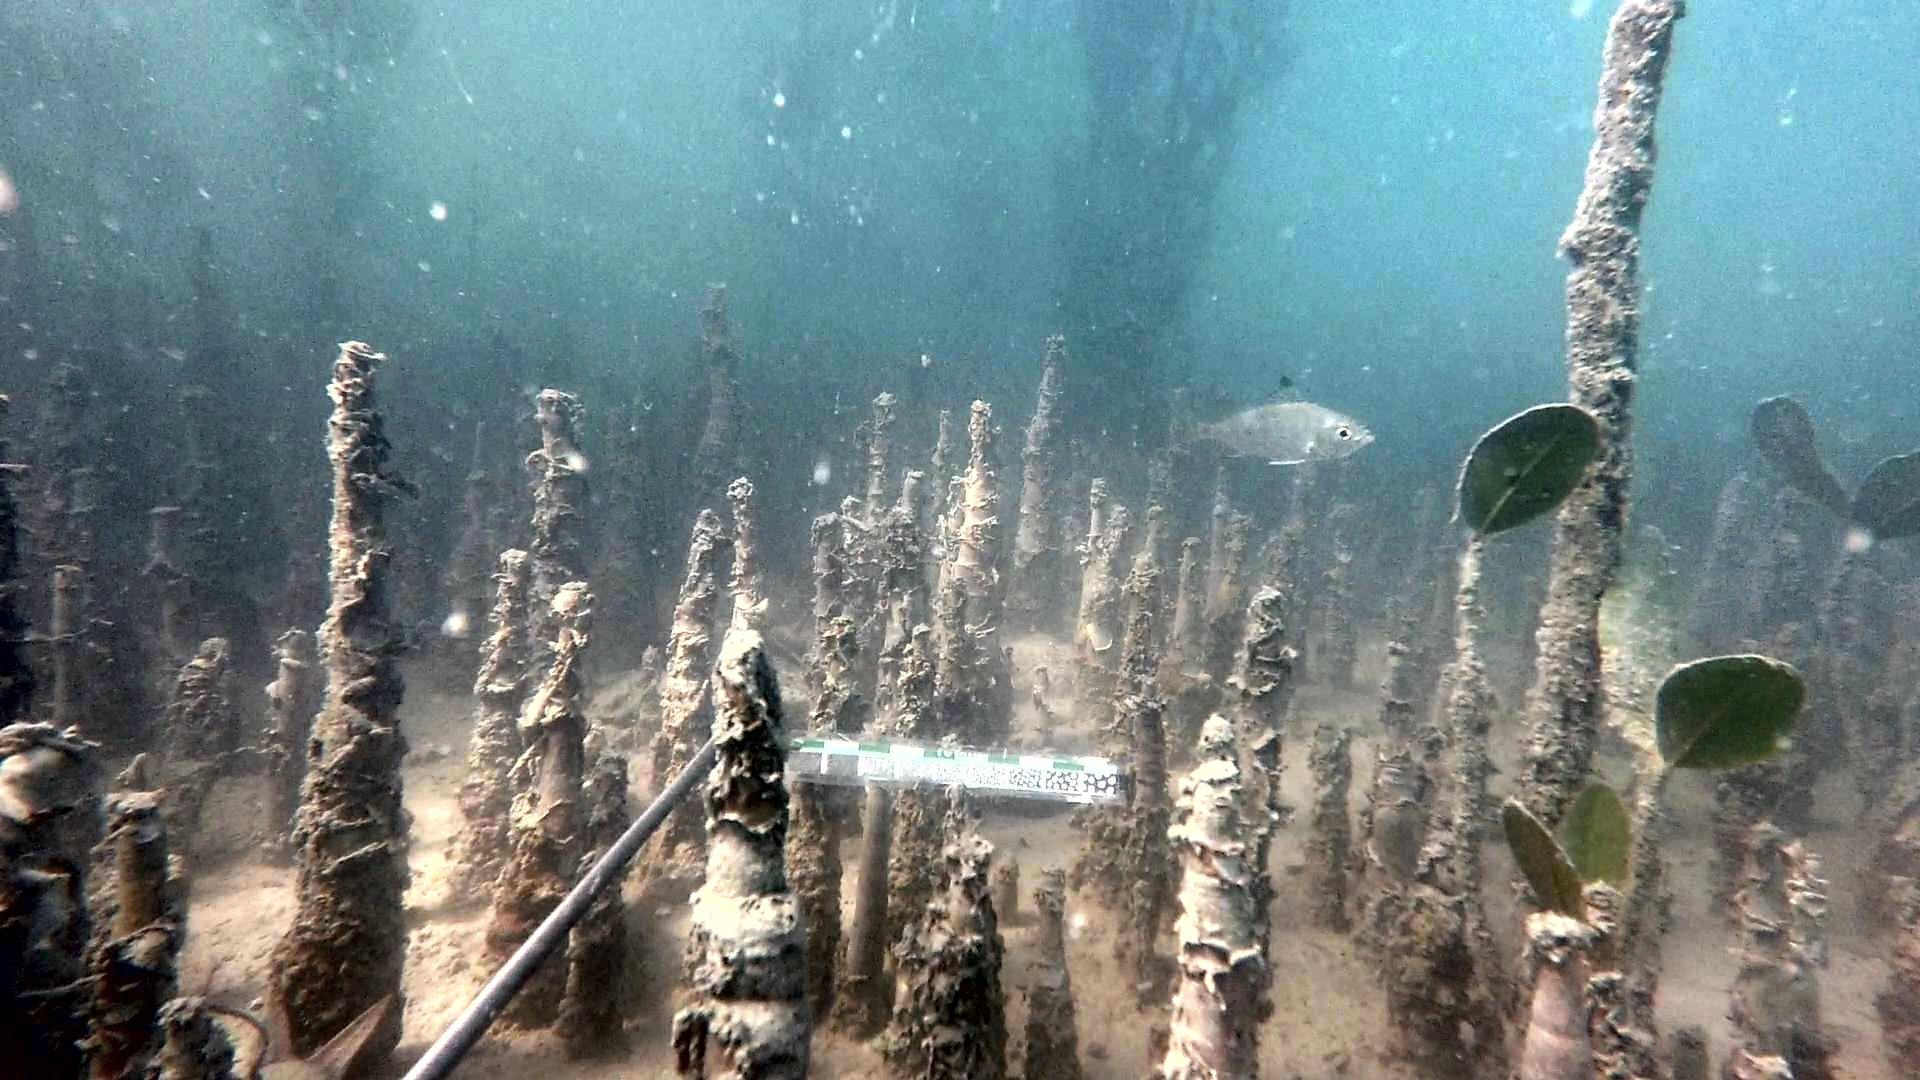gerres: (1170, 373, 1381, 471)
